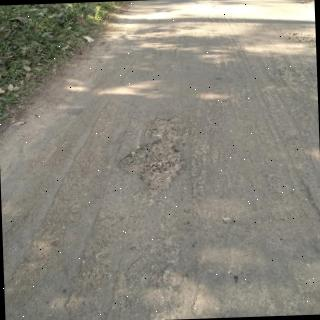pothole: (118, 116, 191, 196)
